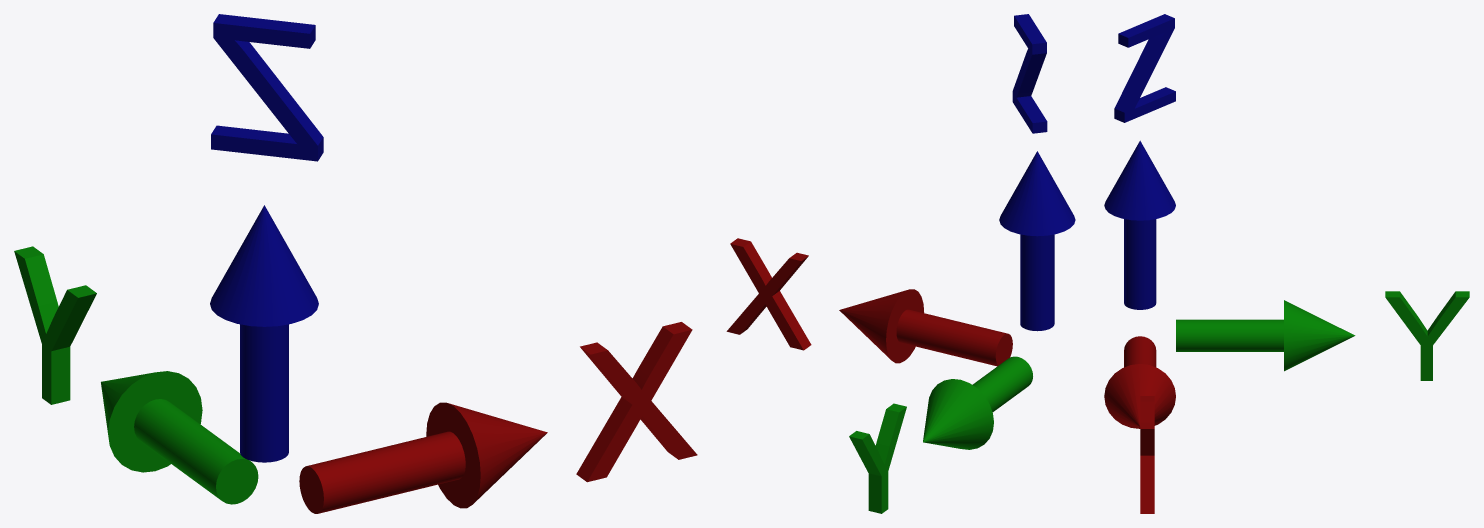
The model's file is XYZ arrows.FBX.
3 renders of one model, left to right at view 1: azimuth 30°, elevation 25°; view 2: azimuth 150°, elevation 25°; view 3: azimuth 270°, elevation 25°, orthographic. The views are drawn at different scales.
Visible parts, largest first — view 1: arrow_x, arrow_z, arrow_y, text_z, text_x, text_y; view 2: arrow_z, arrow_x, arrow_y, text_x, text_y, text_z; view 3: arrow_z, arrow_y, arrow_x, text_z, text_y, text_x.
Part boxes in pixels (<box>): arrow_x: <box>299,402,547,513</box>; arrow_z: <box>210,205,318,462</box>; arrow_y: <box>101,371,258,504</box>; text_z: <box>211,14,323,161</box>; text_x: <box>576,322,697,482</box>; text_y: <box>14,246,96,404</box>; arrow_z: <box>999,151,1075,331</box>; arrow_x: <box>839,289,1012,366</box>; arrow_y: <box>923,356,1032,449</box>; text_x: <box>726,238,811,350</box>; text_y: <box>849,403,906,513</box>; text_z: <box>1012,14,1047,133</box>; arrow_z: <box>1104,140,1175,309</box>; arrow_y: <box>1176,300,1355,371</box>; arrow_x: <box>1104,336,1175,428</box>; text_z: <box>1114,14,1175,122</box>; text_y: <box>1385,291,1469,380</box>; text_x: <box>1140,396,1154,513</box>.
Size of the model in its own units: 50.86 by 50.88 by 53.82.
